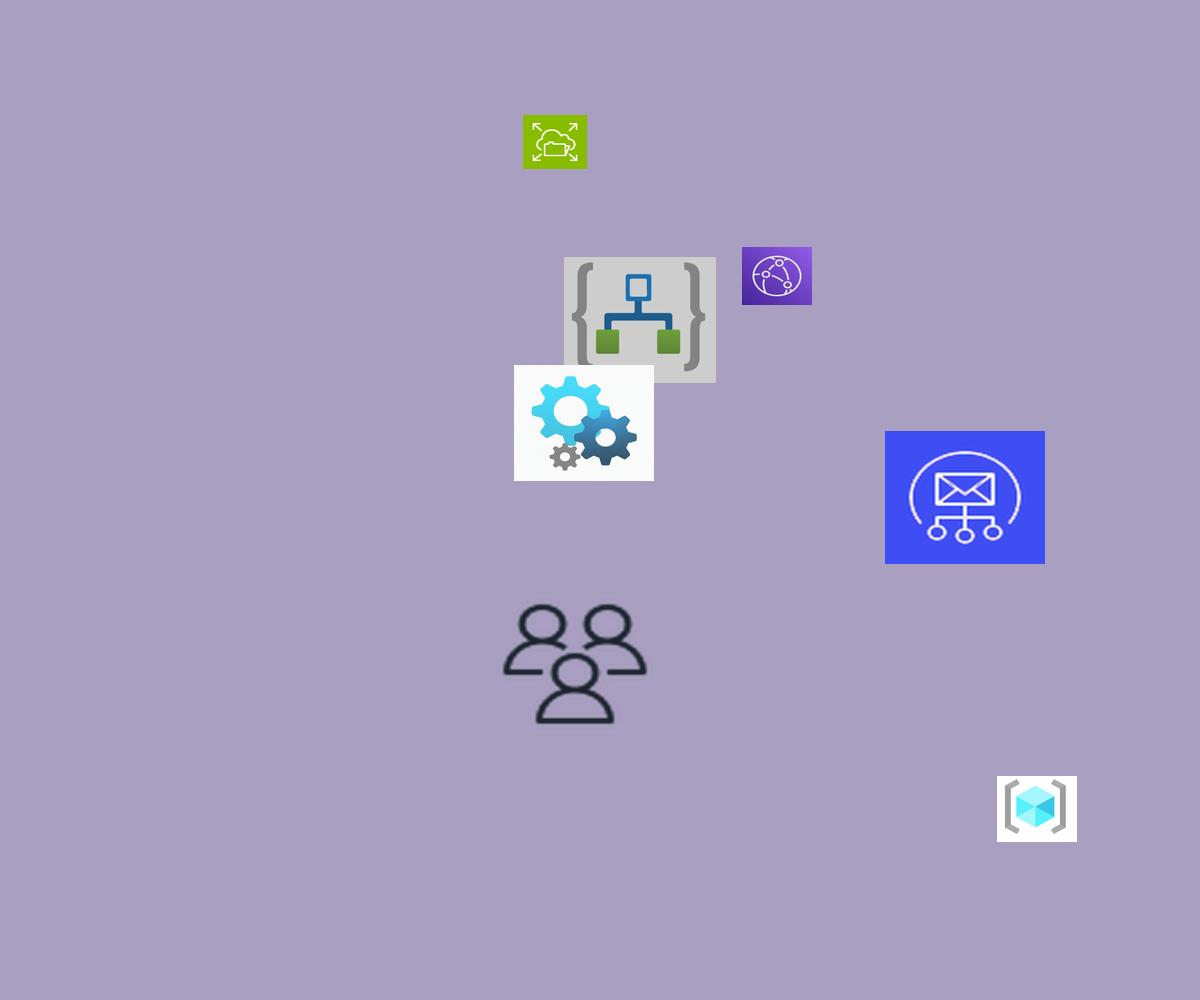AWS-CloudFront: (742, 247, 812, 305)
AWS-EFS: (523, 115, 587, 169)
AWS-Res_Users: (497, 599, 653, 729)
AWS-Simple-Email-Service: (885, 431, 1045, 564)
Azure_api: (514, 365, 654, 481)
Azure_integration-204-Logic-Apps: (564, 257, 716, 383)
Azure_resource_group: (997, 776, 1077, 842)
